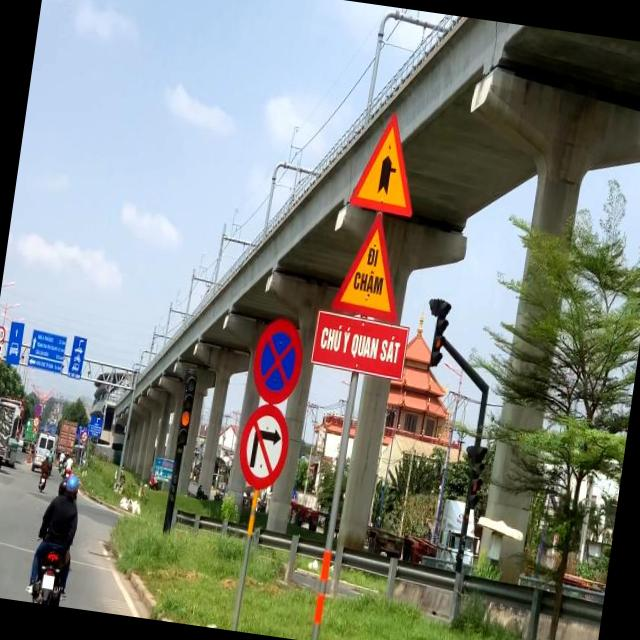P-123b: (236, 400, 294, 490)
P-130: (246, 316, 307, 408)
W-207b: (345, 105, 427, 215)
W-245a: (329, 212, 412, 324)
